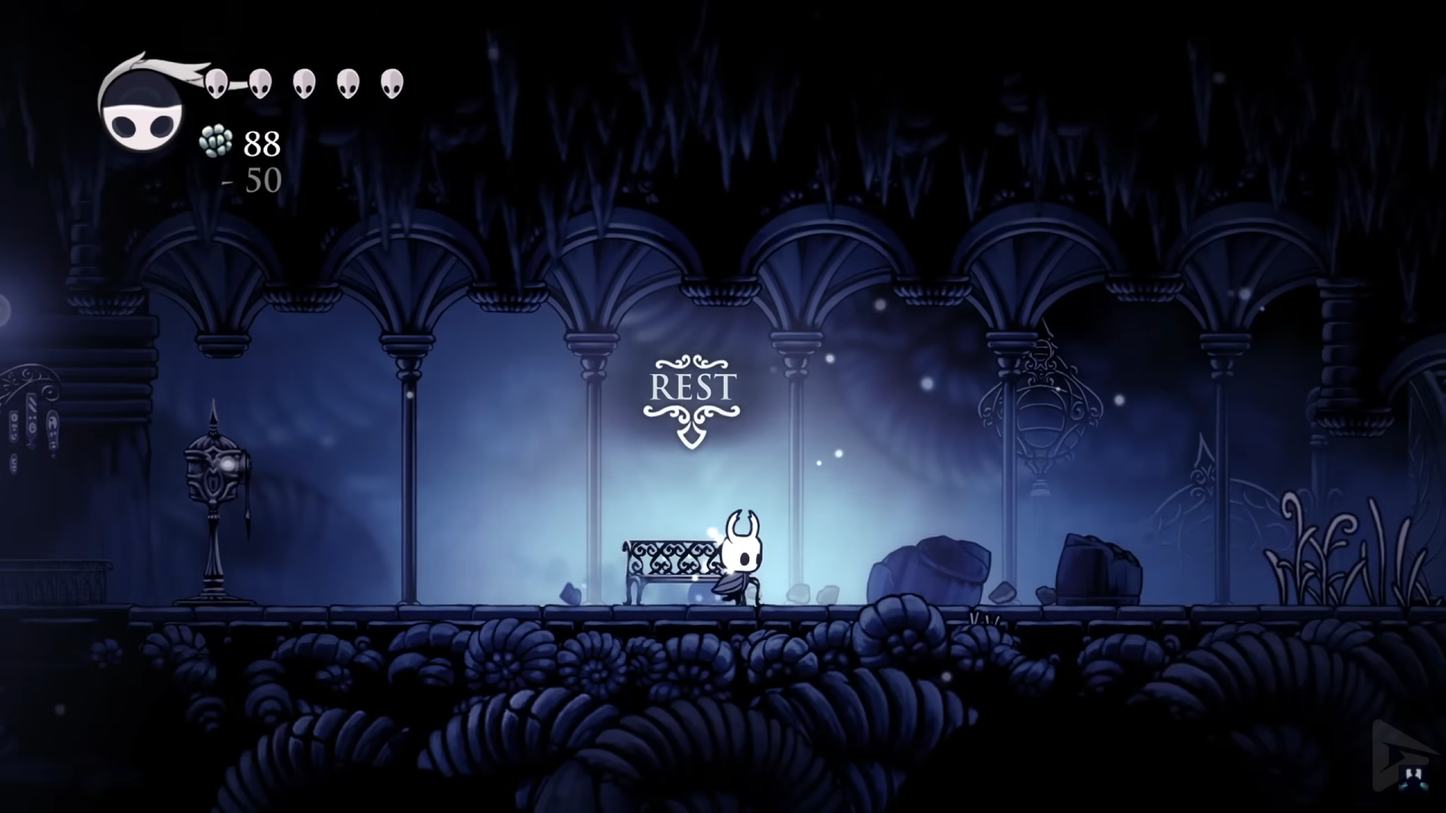HK: (713, 509, 768, 611)
